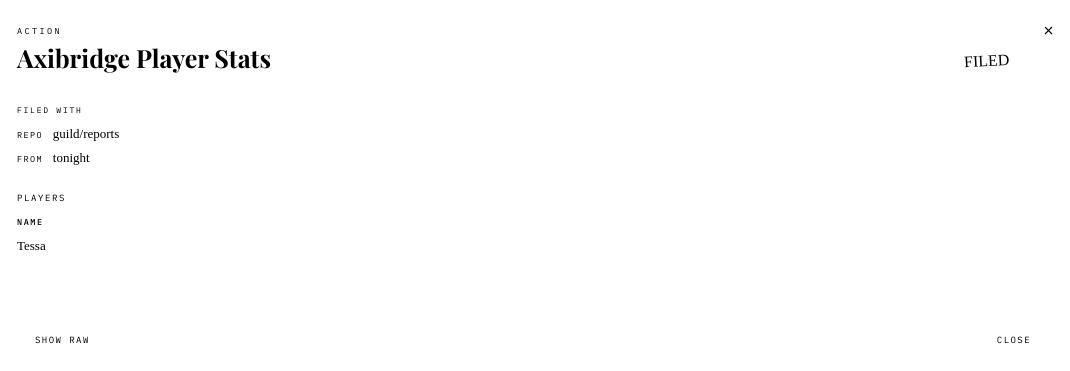
Test case: ActionModal › toggles the raw result
Click the button "Show raw". click: (62, 340)
box: [17, 327, 108, 352]
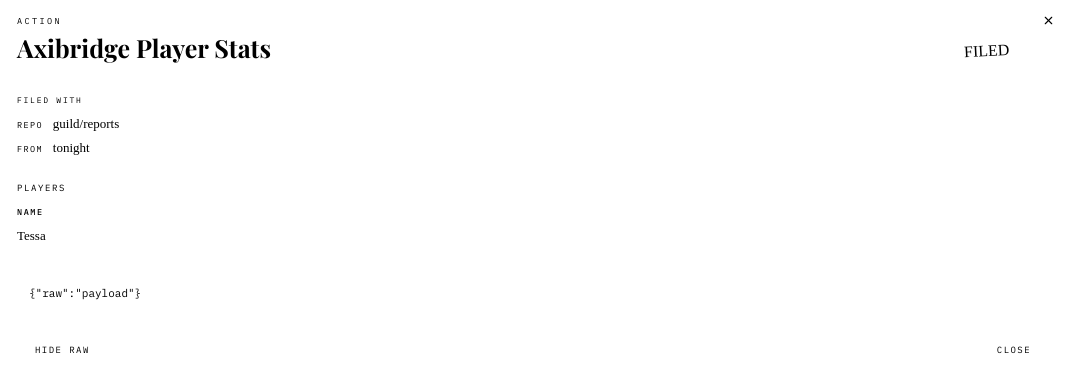
expect the text "{\"raw\":\"payload\"}" is shown: met, box [29, 286, 141, 300]
